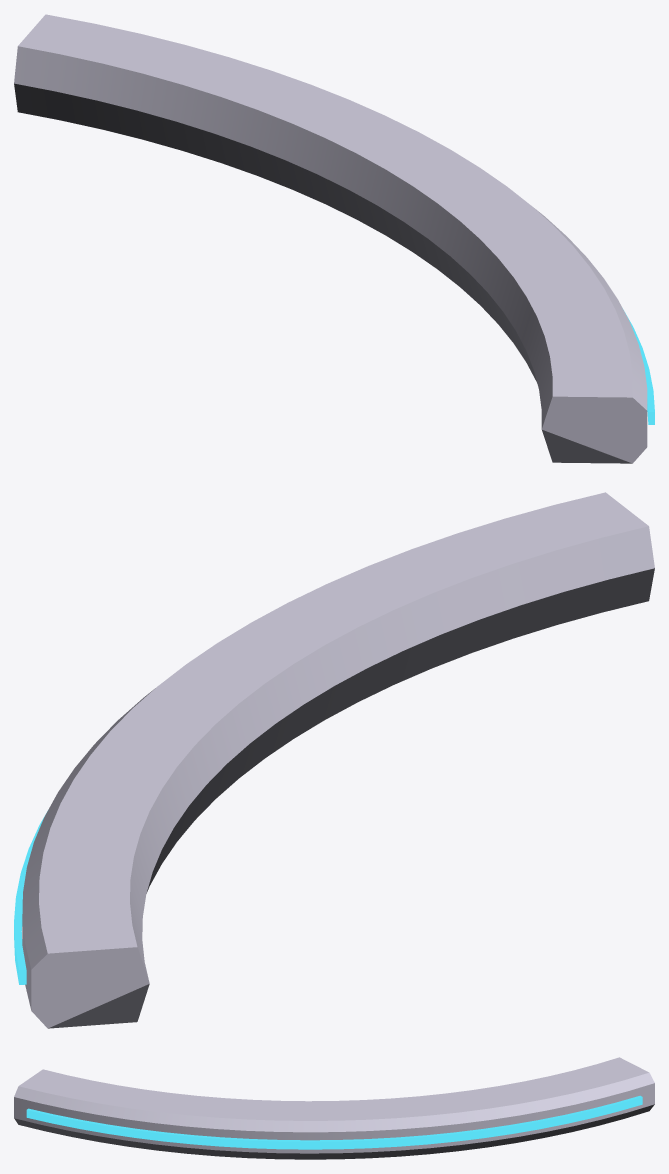
The model's file is Debris_05_quest.glb.
3 views of the same model, one above another, from view 1: azimuth 30°, elevation 25°; view 2: azimuth 150°, elevation 25°; view 3: azimuth 270°, elevation 25° (orthographic). The views are drawn at different scales.
Parts seen in each view (by area): view 1: Debris_05_Ring; view 2: Debris_05_Ring, Debris_05_Glow; view 3: Debris_05_Ring, Debris_05_Glow.
Part boxes in pixels (x1=…): Debris_05_Ring: x1=14, y1=14, x2=647, y2=463; Debris_05_Ring: x1=22, y1=492, x2=654, y2=1028; Debris_05_Glow: x1=14, y1=811, x2=47, y2=984; Debris_05_Ring: x1=14, y1=1057, x2=654, y2=1159; Debris_05_Glow: x1=26, y1=1095, x2=642, y2=1149.
Size of the model in its own units: 0.7901 by 0.2 by 3.01.
